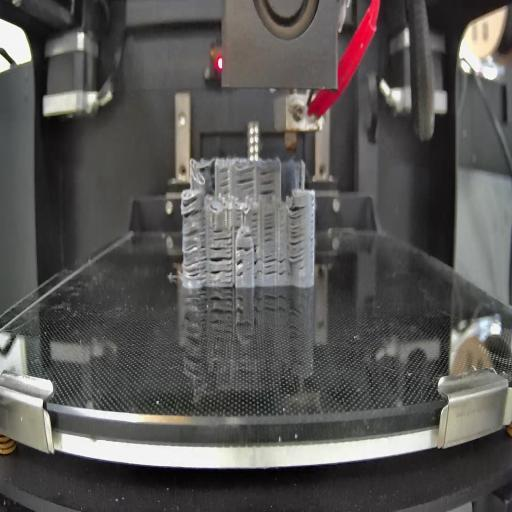cracks: (183, 229, 209, 283), (286, 203, 306, 266), (210, 246, 233, 286), (254, 258, 288, 280), (181, 194, 204, 220), (260, 168, 276, 198), (238, 170, 255, 194), (213, 222, 233, 242), (264, 212, 276, 243), (220, 170, 230, 194), (238, 243, 258, 253), (253, 209, 260, 235), (237, 258, 244, 279), (236, 206, 242, 230), (243, 232, 252, 238), (200, 166, 207, 173)
